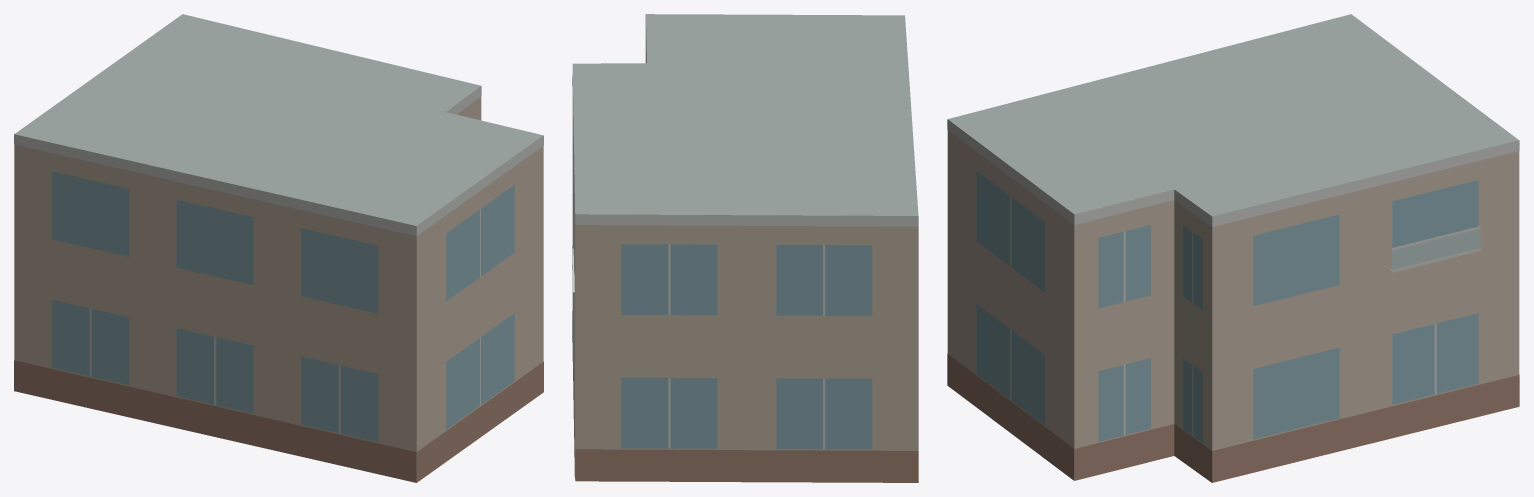
Rendered from survey-upis-32791884.glb.
The picture shows the model from 3 angles, left to right: view 1: azimuth 30°, elevation 25°; view 2: azimuth 150°, elevation 25°; view 3: azimuth 270°, elevation 25°; orthographic projection. The views are drawn at different scales.
Parts seen in each view (by area): view 1: survey-upis-32791884.tmp; view 2: survey-upis-32791884.tmp; view 3: survey-upis-32791884.tmp.
Boxes of the visible parts, x1,y1,x2,y2 form: survey-upis-32791884.tmp: (14, 14, 543, 482); survey-upis-32791884.tmp: (572, 14, 918, 482); survey-upis-32791884.tmp: (947, 14, 1519, 482).
Bounding box in the file's own units: 9.95 × 6.1 × 11.88.
